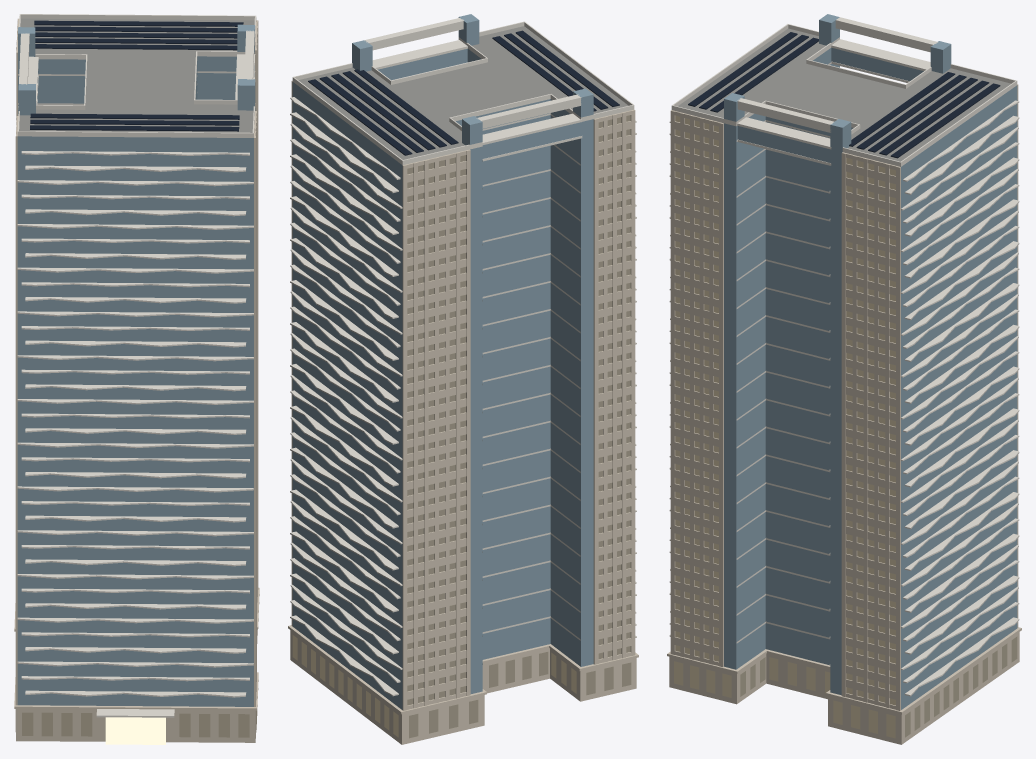
File: baohui_qiuhonggu.glb
The picture shows the model from 3 angles, left to right: view 1: azimuth 30°, elevation 25°; view 2: azimuth 150°, elevation 25°; view 3: azimuth 270°, elevation 25°; orthographic projection. The views are drawn at different scales.
Parts seen in each view (by area): view 1: baohui_qiuhonggu_mesh; view 2: baohui_qiuhonggu_mesh; view 3: baohui_qiuhonggu_mesh.
Part boxes in pixels (x1,y1,x2,y2): baohui_qiuhonggu_mesh: (14,14,259,744); baohui_qiuhonggu_mesh: (288,14,638,744); baohui_qiuhonggu_mesh: (667,14,1021,744).
Bounding box in the file's own units: 81.85 × 161 × 86.05.
